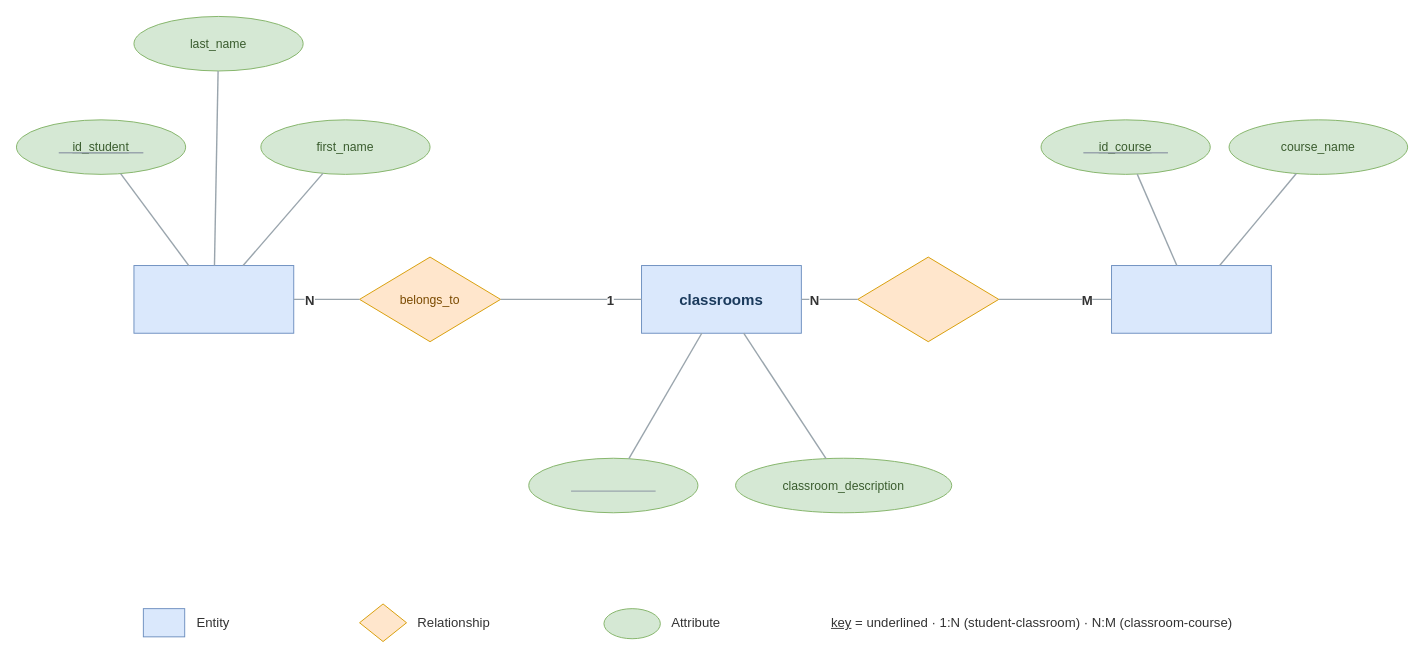
Some shapes in this 1424 by 658 pixel diagram are drawn without their labels. The centre of each missing label's shape, as x and y in pixels:
"courses" belongs at point 1191,299.
"id_classroom" belongs at point 613,485.
"offers" belongs at point 928,299.
"students" belongs at point 213,299.
